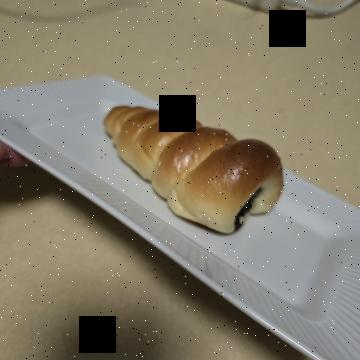cream horn: (97, 59, 259, 264)
